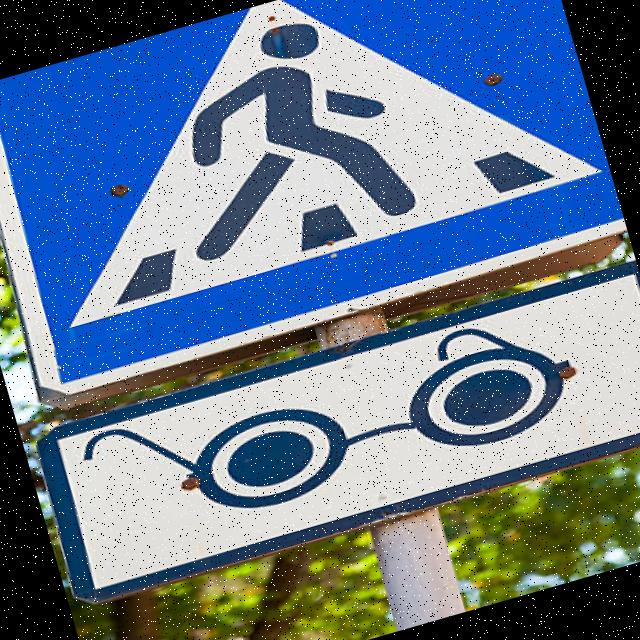crosswalk: (0, 0, 633, 423)
